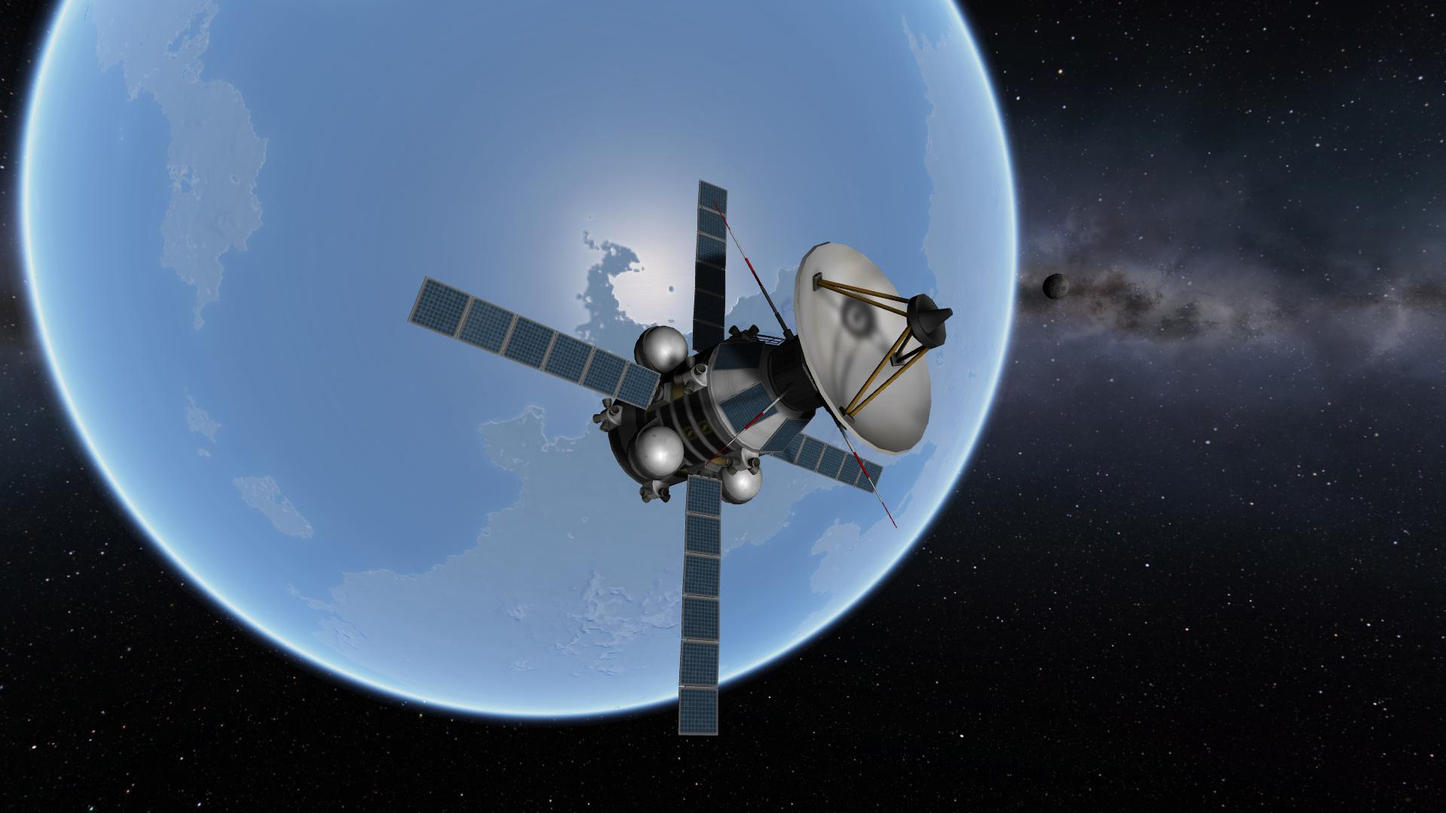antenna: (792, 239, 955, 457), (712, 202, 795, 346), (822, 405, 899, 531), (703, 383, 796, 467)
body: (602, 338, 814, 490)
solar: (405, 273, 662, 413), (676, 473, 725, 738), (763, 430, 886, 497), (690, 178, 730, 355), (715, 379, 779, 436), (759, 416, 813, 454), (712, 341, 766, 372)
thruster: (682, 380, 696, 396), (673, 373, 688, 387), (725, 455, 741, 468), (746, 456, 762, 469), (693, 362, 707, 376), (684, 355, 697, 370), (599, 419, 612, 434), (747, 464, 762, 477), (747, 323, 761, 336), (638, 486, 652, 498), (728, 324, 741, 336), (608, 404, 621, 416), (659, 492, 672, 504), (657, 487, 671, 498), (725, 467, 740, 477), (601, 397, 612, 410), (592, 412, 602, 425), (641, 494, 652, 504)
